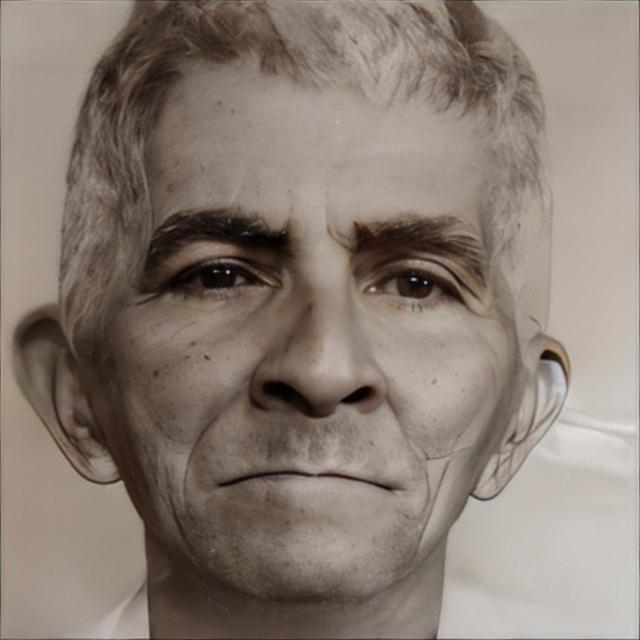anger: (97, 52, 507, 603)
